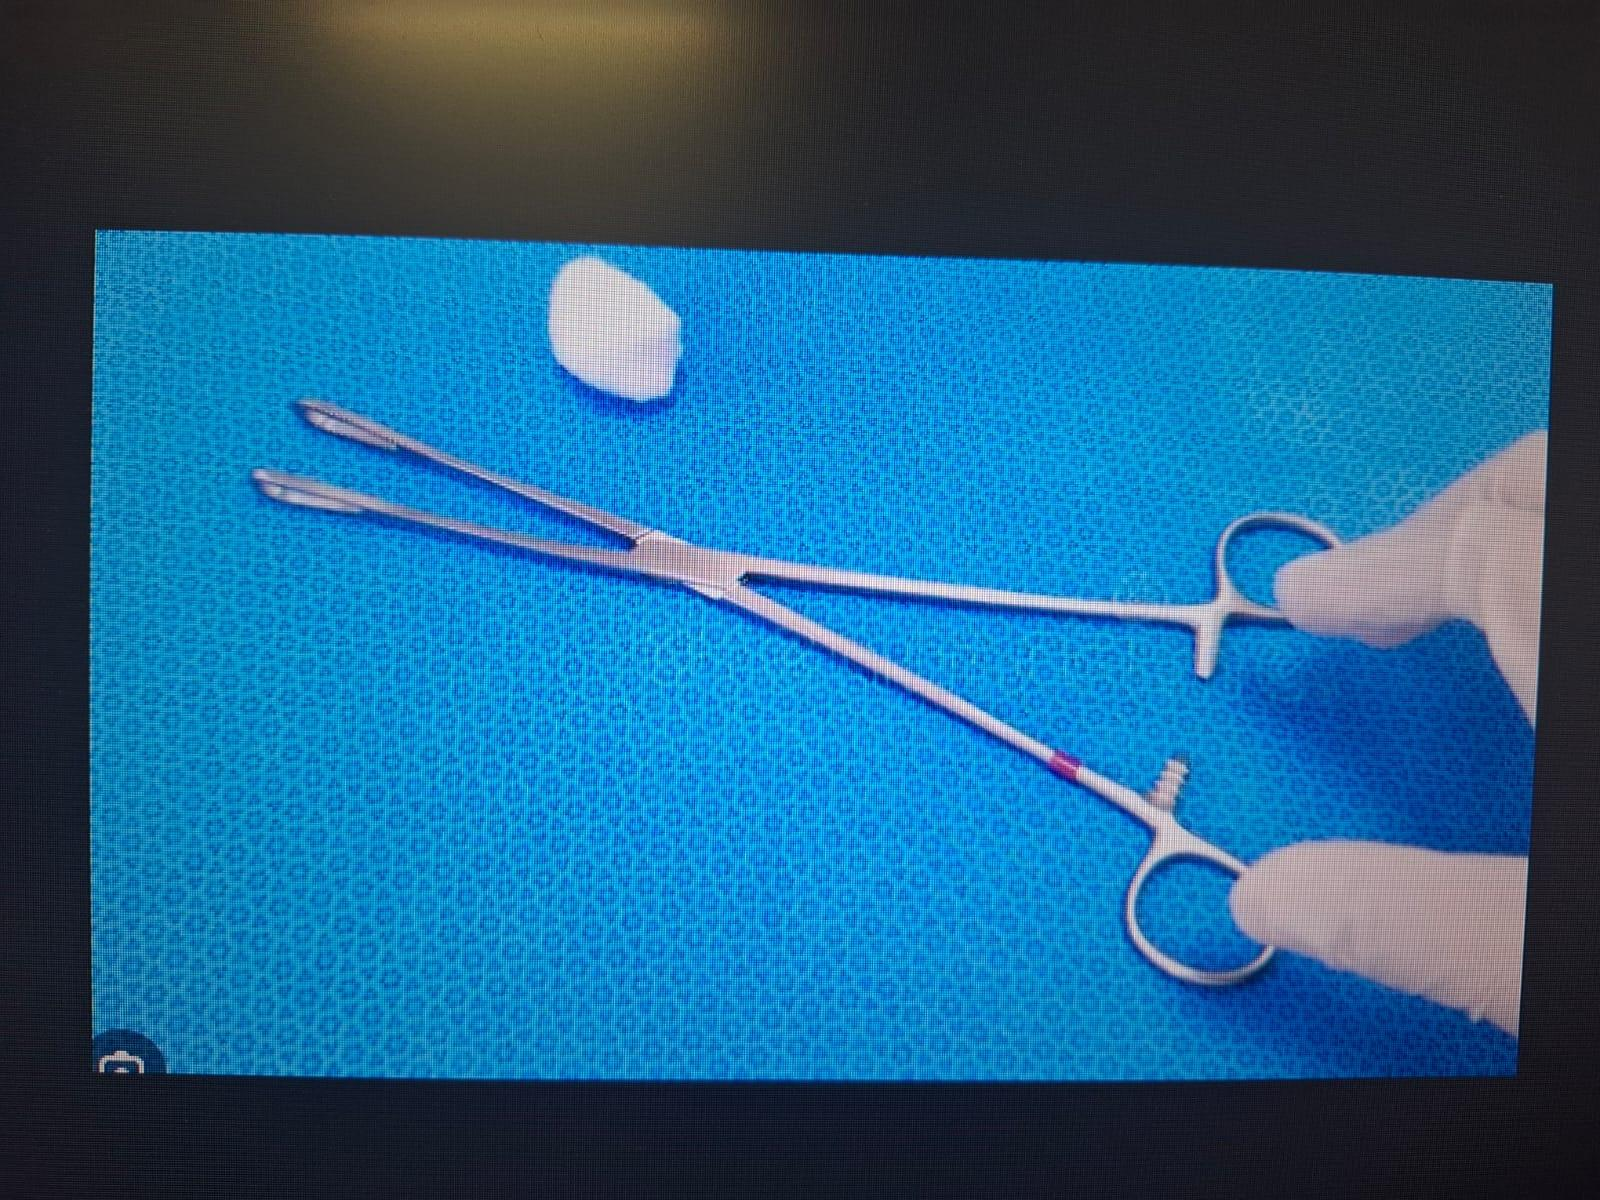Sponge Holding Forceps: (238, 388, 1361, 1013)
